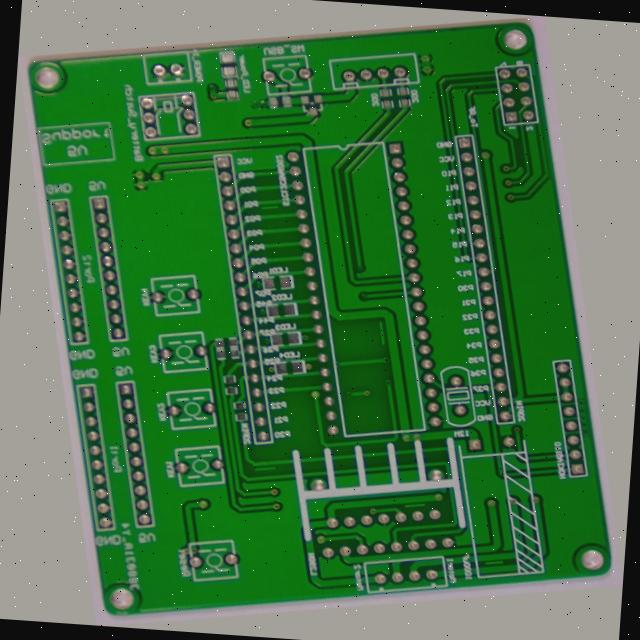spurious_copper: (200, 464, 237, 480), (382, 328, 400, 359), (372, 530, 404, 547), (274, 178, 300, 193), (455, 609, 484, 620)
